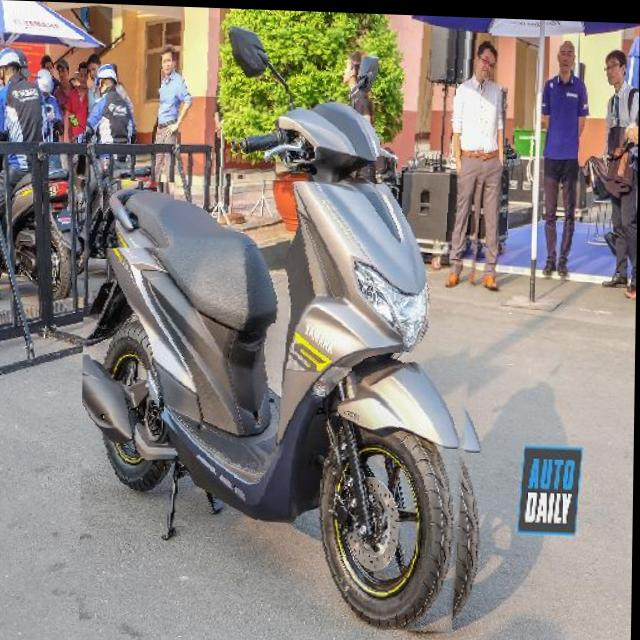All: (81, 18, 492, 632)
Head: (234, 89, 403, 182)
Tail: (103, 179, 175, 249)
